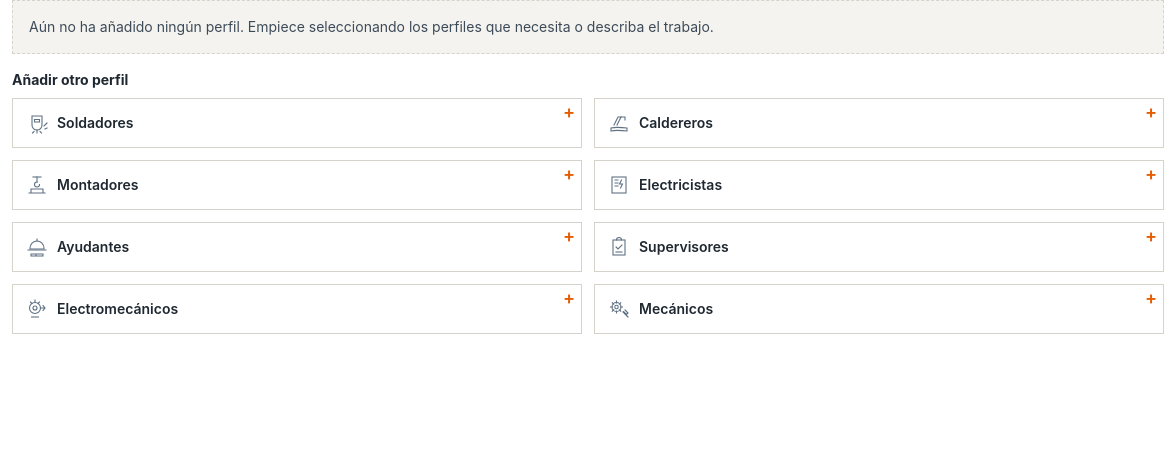
it: TeamComposer › adding a profile line updates the totals
Click the button "Soldadores +" at (95, 123), box [12, 98, 582, 148]
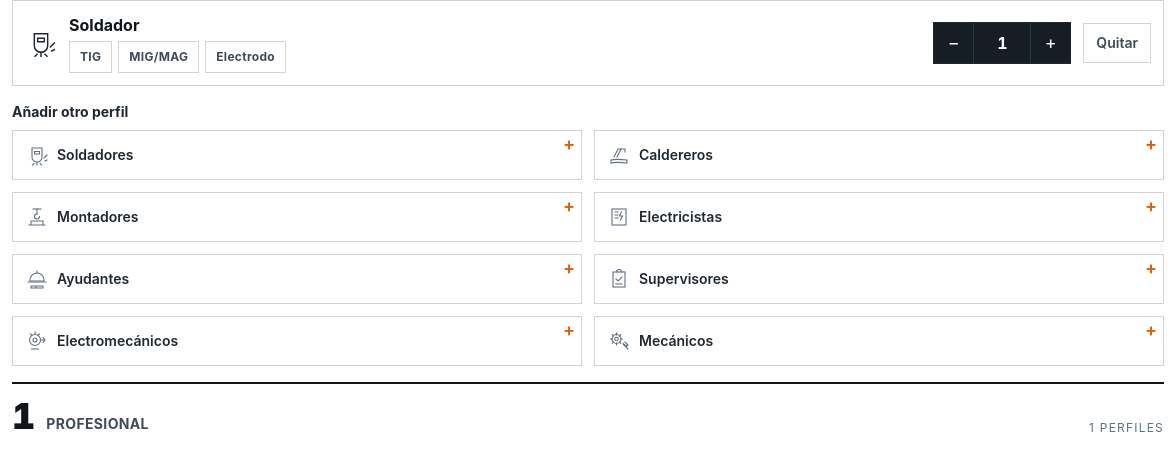
Check: the text "profesional" is shown, box [46, 414, 149, 434]
Check: the text "1 perfiles" is shown, box [1089, 420, 1164, 436]
Check: the text "Soldador" is shown, box [69, 15, 139, 35]
